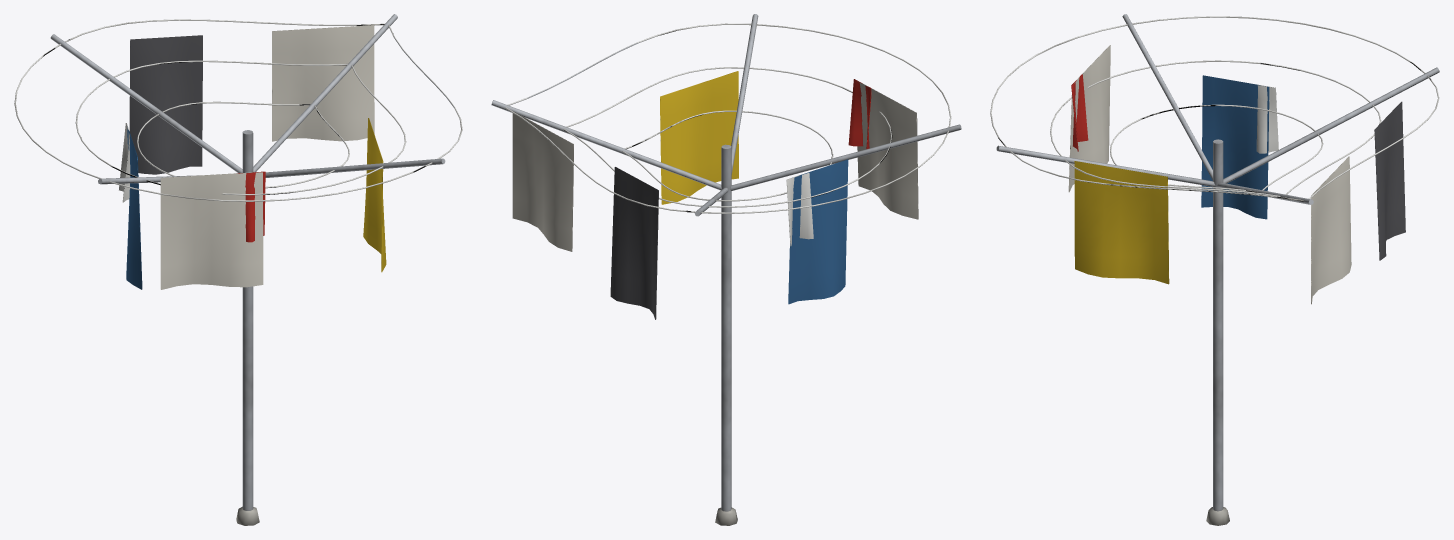
Rendered from pod_suszarka.glb.
3 renders of one model, left to right at view 1: azimuth 30°, elevation 25°; view 2: azimuth 150°, elevation 25°; view 3: azimuth 270°, elevation 25°, orthographic. The views are drawn at different scales.
Parts seen in each view (by area): view 1: Pranie, Suszarka; view 2: Pranie, Suszarka; view 3: Pranie, Suszarka.
Boxes of the visible parts, left/top/right/bottom form: Pranie: left=119, top=25, right=386, bottom=289; Suszarka: left=14, top=14, right=462, bottom=525; Pranie: left=512, top=71, right=918, bottom=319; Suszarka: left=491, top=14, right=961, bottom=525; Pranie: left=1068, top=45, right=1405, bottom=304; Suszarka: left=990, top=14, right=1439, bottom=525.
Bounding box in the file's own units: 1.88 × 1.91 × 1.88.
Materials: 7 (1 with a texture image).
